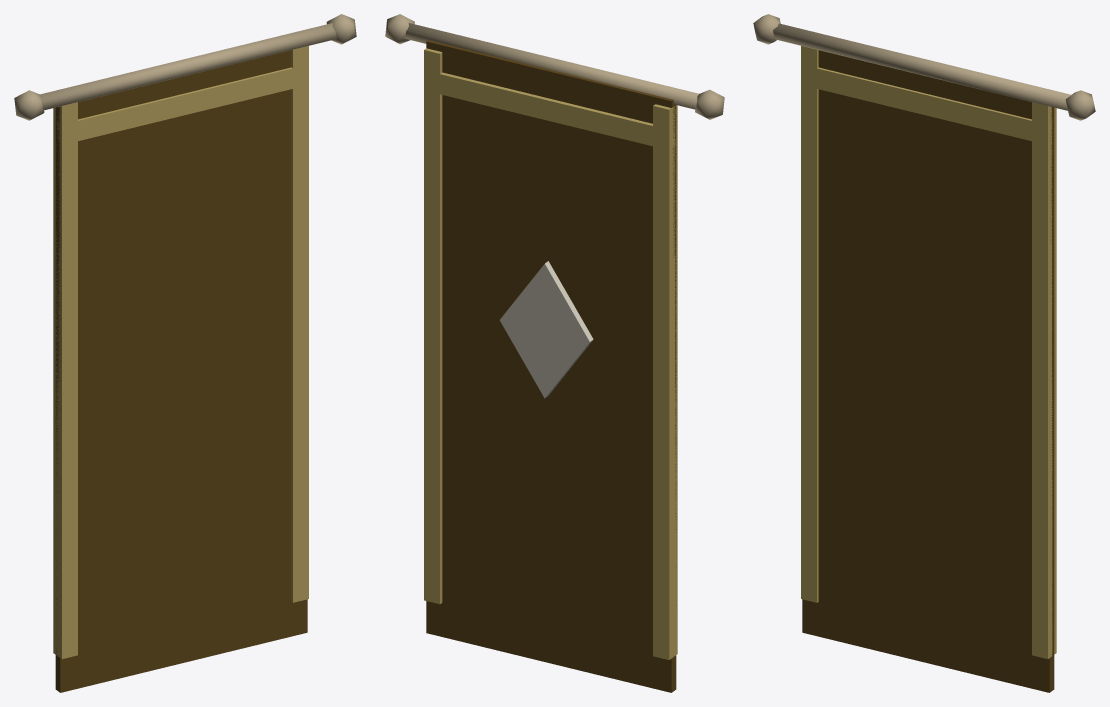
File: chaos_elemental_banner_v0.glb
3 renders of one model, left to right at view 1: azimuth 30°, elevation 25°; view 2: azimuth 150°, elevation 25°; view 3: azimuth 330°, elevation 25°, orthographic.
Parts seen in each view (by area): view 1: chaos_elemental_banner_v0; view 2: chaos_elemental_banner_v0; view 3: chaos_elemental_banner_v0.
Part boxes in pixels (box(x1,y1,x2,y2)): chaos_elemental_banner_v0: box(14, 14, 356, 692); chaos_elemental_banner_v0: box(385, 14, 724, 692); chaos_elemental_banner_v0: box(753, 14, 1095, 692).
Size of the model in its own units: 1.04 by 1.8 by 0.0933.
